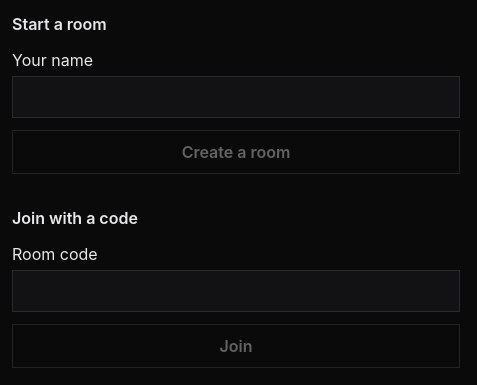
the code entry fallback › keeps the join button off until a full code is typed
The image size is (477, 385).
expect the button "Join" is disabled: met, box [12,324,460,368]
Type "ABC" into the field labelled "Room code". click: (236, 291)
box: [12,270,460,312]
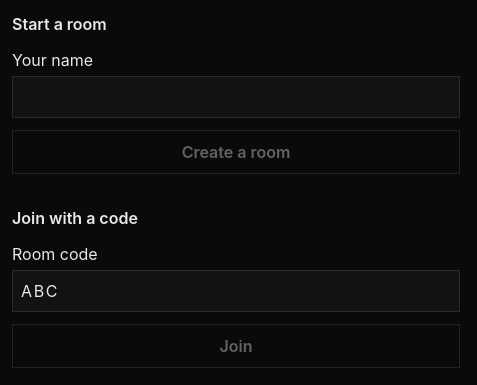
expect the button "Join" is disabled: met, box [12,324,460,368]
Replace the text in the field labelled "Room code" with "ABCD". click: (236, 291)
box: [12,270,460,312]
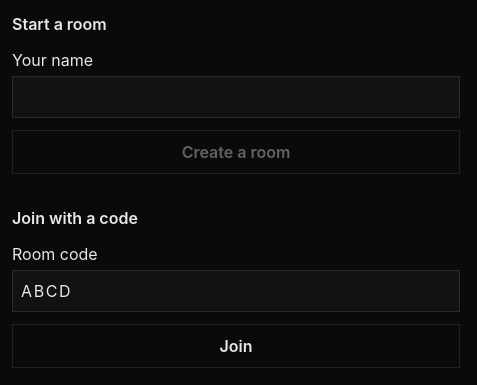
expect the button "Join" is enabled: met, box [12,324,460,368]
